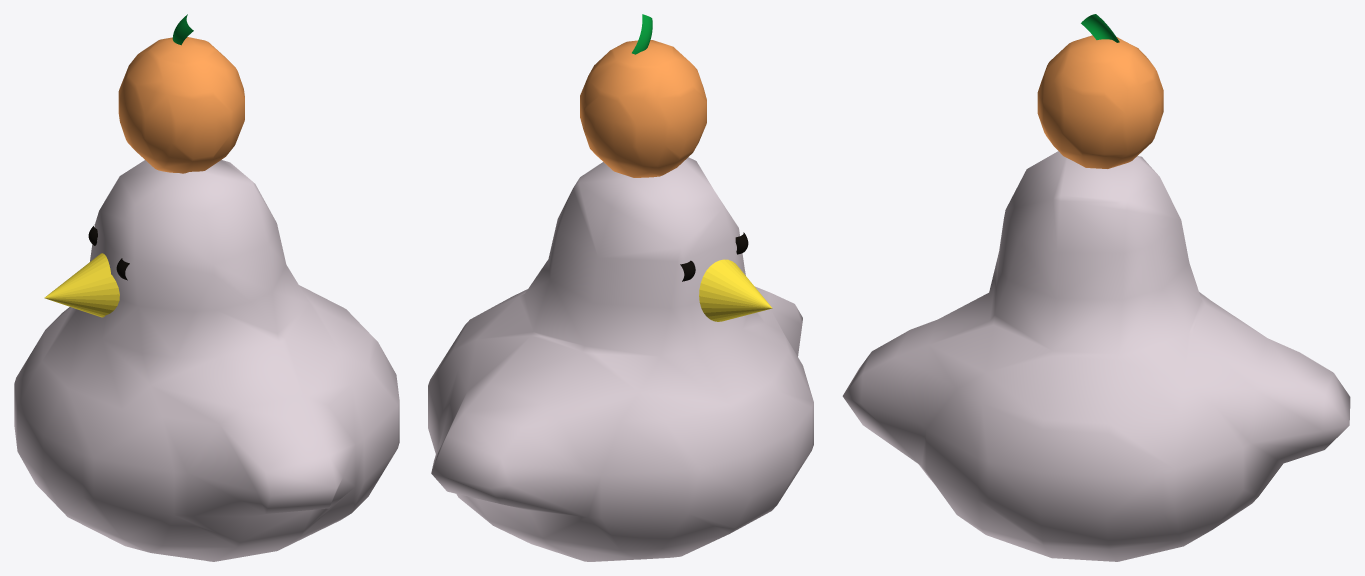
The model's file is duck.fbx.
3 views of the same model, side by side, from view 1: azimuth 30°, elevation 25°; view 2: azimuth 150°, elevation 25°; view 3: azimuth 270°, elevation 25° (orthographic). The views are drawn at different scales.
Visible parts, largest first — view 1: Mball, orange, Cone; view 2: Mball, orange, Cone; view 3: Mball, orange.
Boxes of the visible parts, <box> form: Mball: <box>14,160,399,561</box>; orange: <box>118,37,244,173</box>; Cone: <box>44,253,119,317</box>; Mball: <box>428,157,813,561</box>; orange: <box>580,40,706,177</box>; Cone: <box>699,259,772,321</box>; Mball: <box>842,151,1350,561</box>; orange: <box>1037,35,1163,168</box>.
Size of the model in its own units: 940 by 1406 by 1267.
